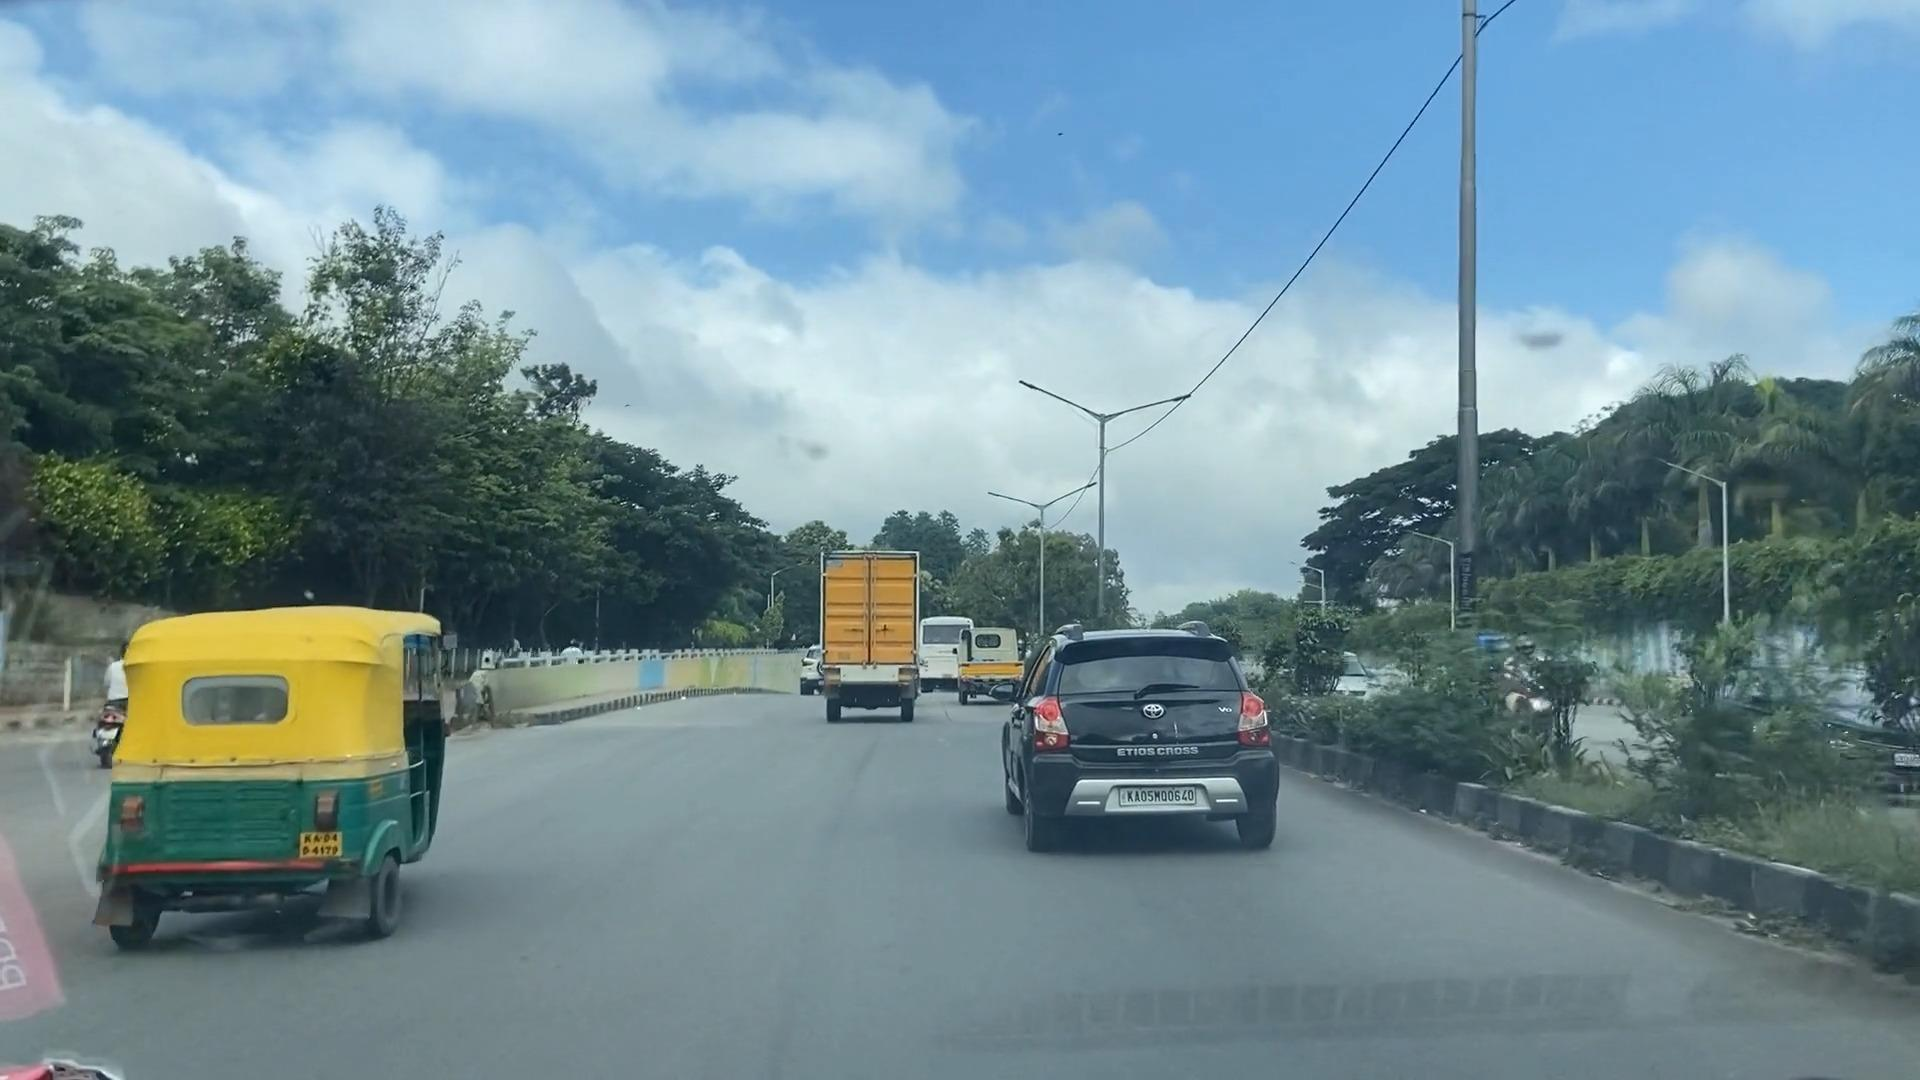HMV: (822, 568, 918, 716)
LMV: (112, 608, 467, 934), (996, 617, 1278, 864)
